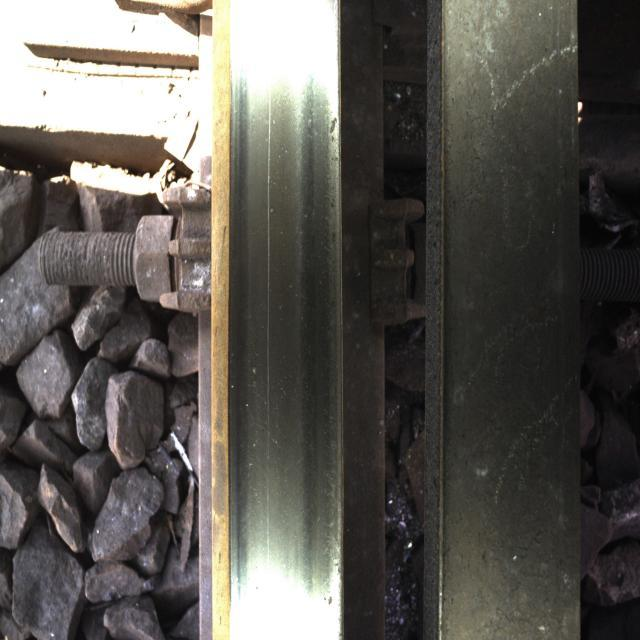normal: (237, 54, 335, 551)
